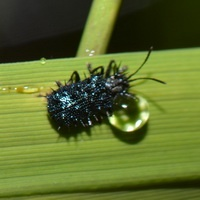insect: (0, 48, 165, 142), (45, 48, 164, 139)
